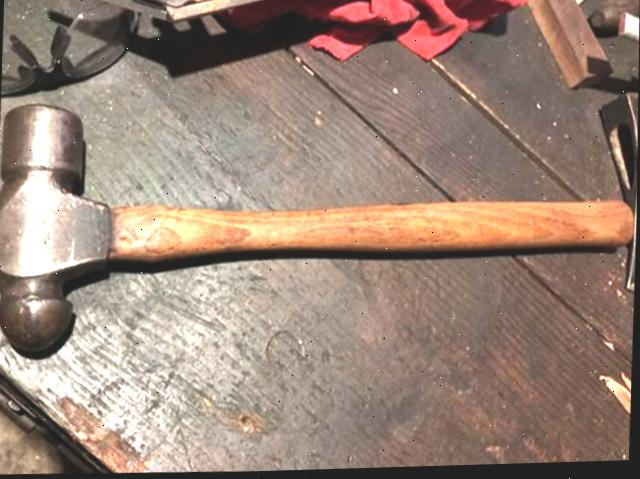hammer: (0, 78, 639, 373)
